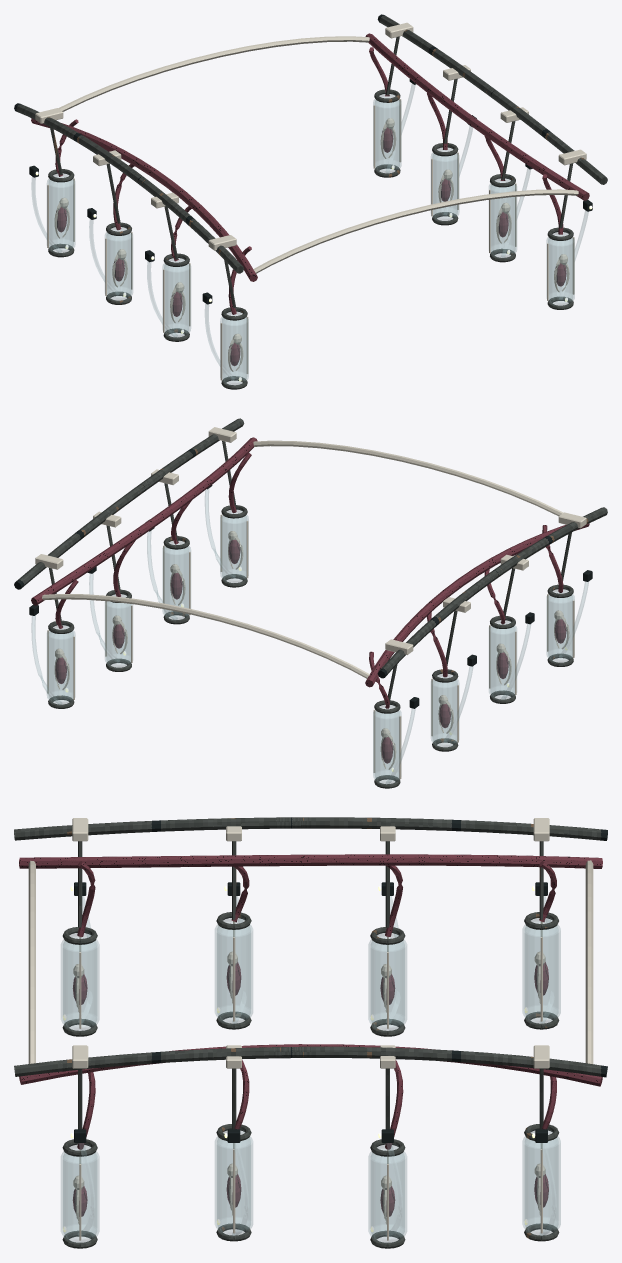
File: nursery_growth_vault.glb
3 views of the same model, one above another, from view 1: azimuth 30°, elevation 25°; view 2: azimuth 150°, elevation 25°; view 3: azimuth 270°, elevation 25° (orthographic). The views are drawn at different scales.
Parts seen in each view (by area): view 1: nursery_growth_vault_cold, nursery_growth_vault_petrol, nursery_growth_vault_warm, nursery_growth_vault_bruised; view 2: nursery_growth_vault_cold, nursery_growth_vault_petrol, nursery_growth_vault_warm, nursery_growth_vault_bruised; view 3: nursery_growth_vault_cold, nursery_growth_vault_petrol, nursery_growth_vault_bruised, nursery_growth_vault_warm.
Boxes of the visible parts, <box> form: nursery_growth_vault_cold: <box>31,84,588,385</box>; nursery_growth_vault_petrol: <box>14,14,607,389</box>; nursery_growth_vault_warm: <box>35,22,586,380</box>; nursery_growth_vault_bruised: <box>31,33,589,365</box>; nursery_growth_vault_cold: <box>31,489,588,784</box>; nursery_growth_vault_petrol: <box>14,418,607,788</box>; nursery_growth_vault_warm: <box>35,427,586,779</box>; nursery_growth_vault_bruised: <box>31,437,589,763</box>; nursery_growth_vault_cold: <box>61,896,560,1242</box>; nursery_growth_vault_petrol: <box>14,817,607,1248</box>; nursery_growth_vault_bruised: <box>19,854,602,1216</box>; nursery_growth_vault_warm: <box>28,818,593,1240</box>.
Bounding box in the file's own units: 10.41 × 3.96 × 10.43.
5 materials, 2 textured.
